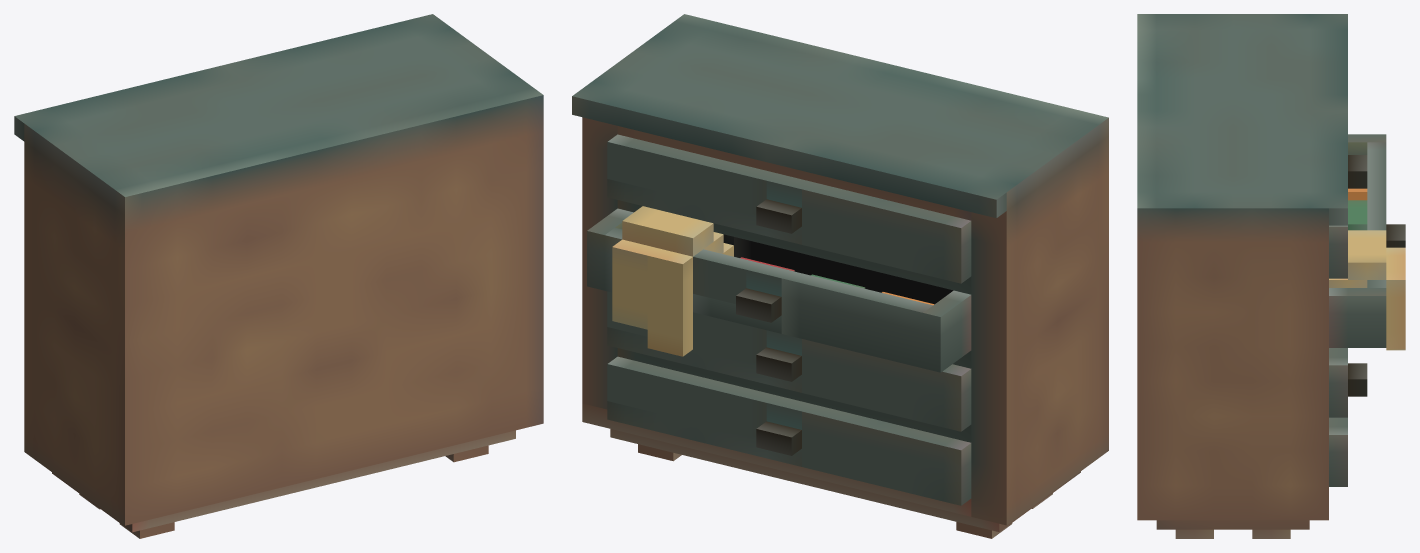
The model's file is DresserDarkGreenOpened_00.fbx.
3 views of the same model, side by side, from view 1: azimuth 30°, elevation 25°; view 2: azimuth 150°, elevation 25°; view 3: azimuth 270°, elevation 25° (orthographic). The views are drawn at different scales.
Visible parts, largest first — view 1: DresserDarkGreenOpened_00; view 2: DresserDarkGreenOpened_00; view 3: DresserDarkGreenOpened_00.
Part boxes in pixels (x1=…): DresserDarkGreenOpened_00: x1=14, y1=14, x2=543, y2=538; DresserDarkGreenOpened_00: x1=572, y1=14, x2=1108, y2=538; DresserDarkGreenOpened_00: x1=1137, y1=14, x2=1405, y2=538.
Size of the model in its own units: 120 by 70 by 100.
1 material, 1 textured.
